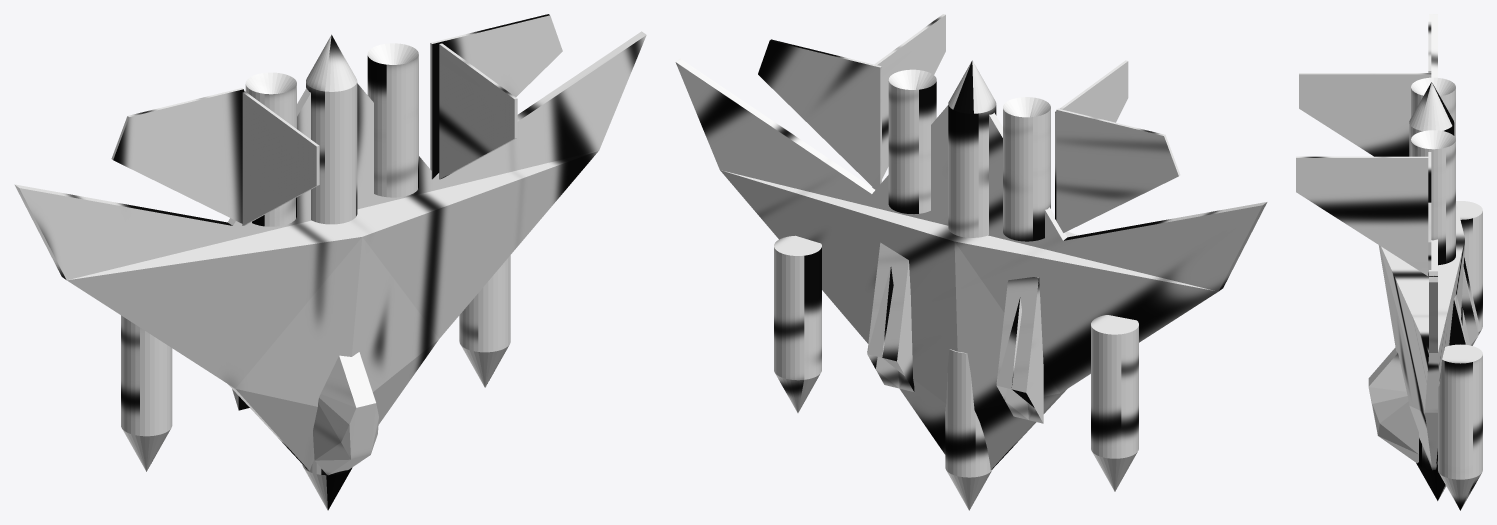
The model's file is fighter.obj.
3 renders of one model, left to right at view 1: azimuth 30°, elevation 25°; view 2: azimuth 150°, elevation 25°; view 3: azimuth 270°, elevation 25°, orthographic. The views are drawn at different scales.
Parts seen in each view (by area): view 1: fighter; view 2: fighter; view 3: fighter.
Part boxes in pixels (box(x1,y1,x2,y2)): fighter: box(14, 14, 646, 510); fighter: box(675, 14, 1267, 510); fighter: box(1296, 14, 1482, 510).
Size of the model in its own units: 1.28 by 0.9306 by 0.3756.
